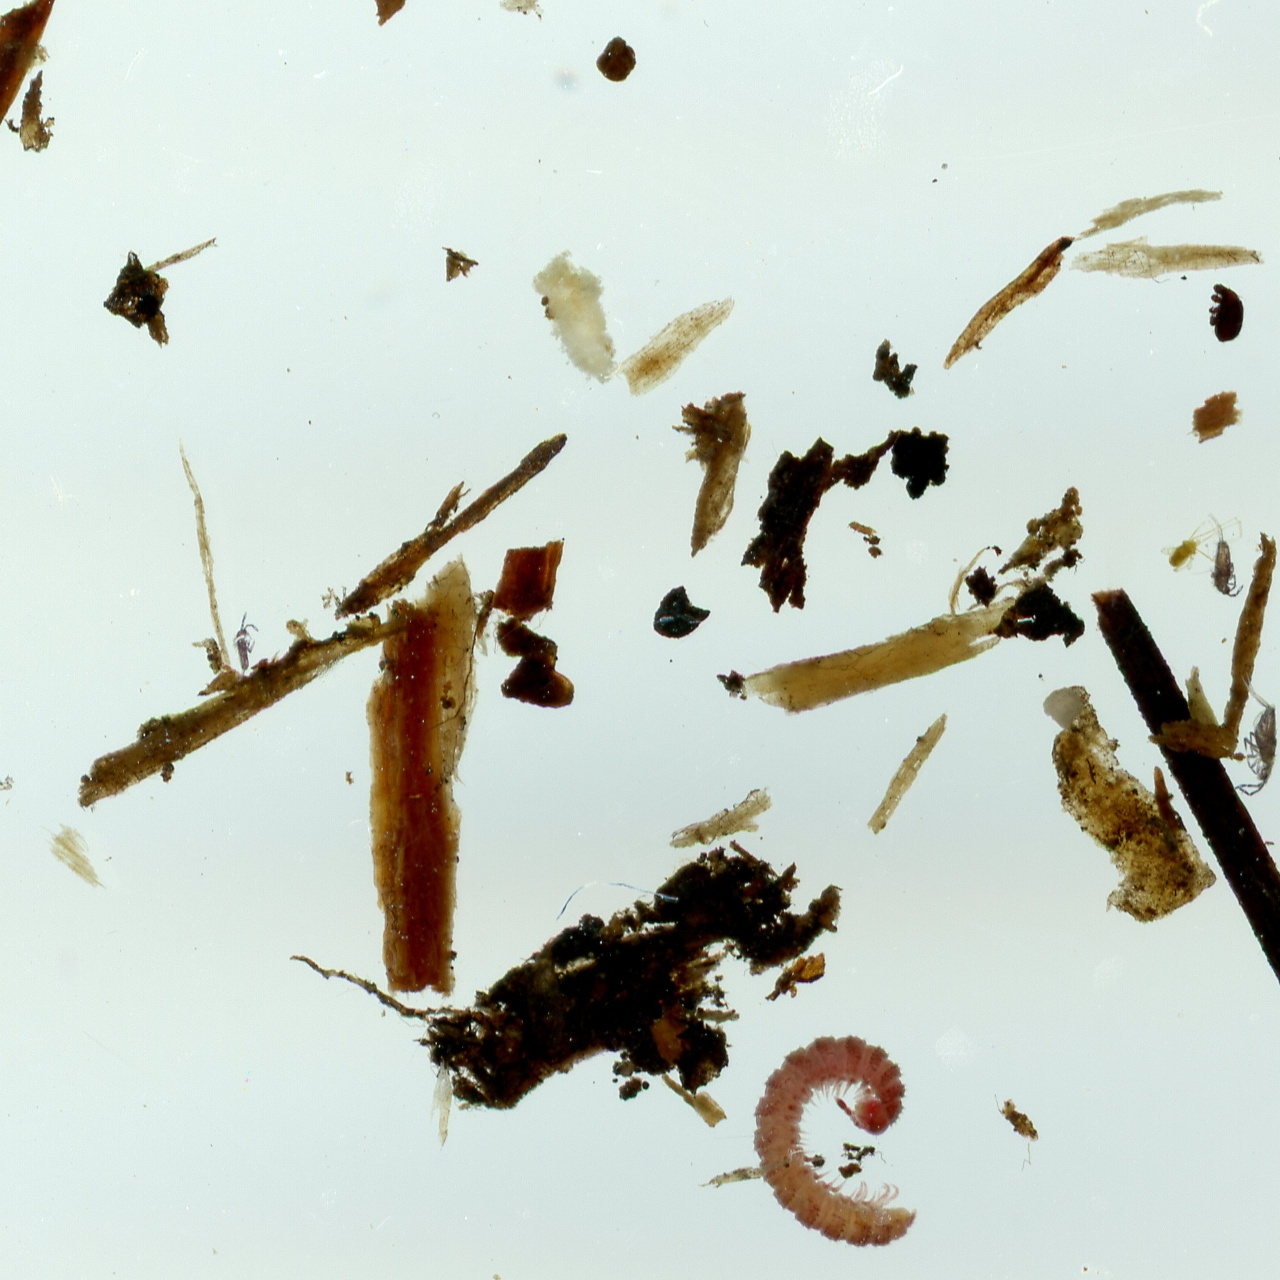arthropod: (744, 1028, 921, 1252), (1151, 493, 1258, 593), (1231, 667, 1280, 802), (1205, 509, 1247, 601), (990, 1091, 1041, 1146), (1205, 280, 1247, 346), (229, 608, 261, 683)
